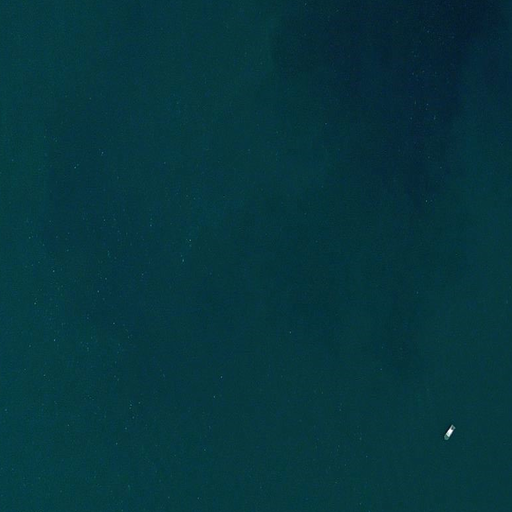ship: (441, 423, 458, 443)
